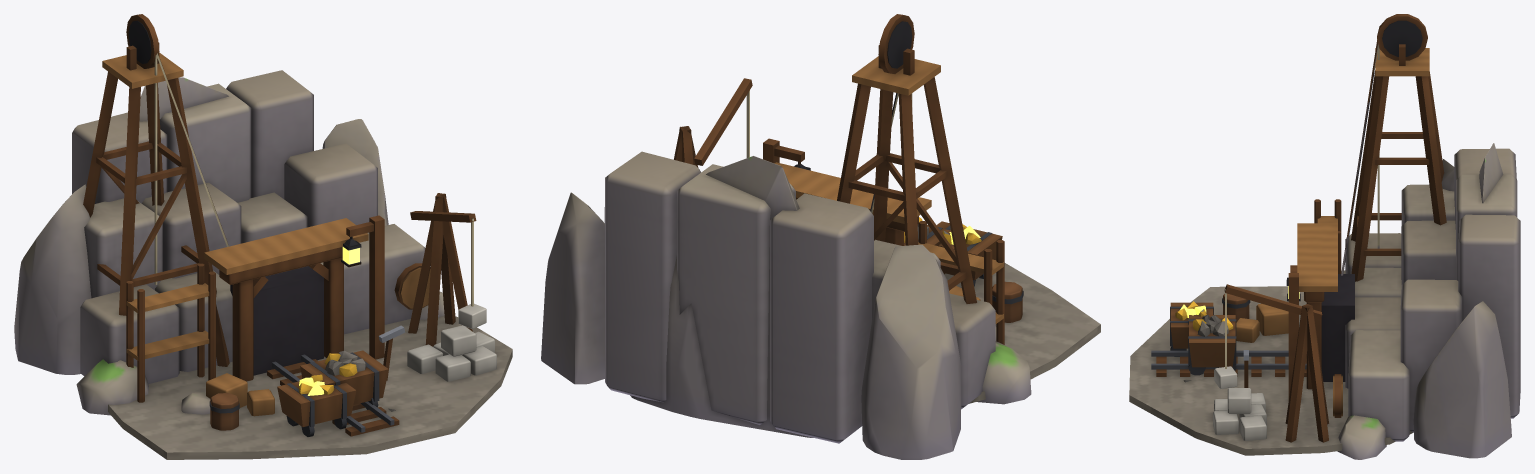
File: mine.glb
The picture shows the model from 3 angles, left to right: view 1: azimuth 30°, elevation 25°; view 2: azimuth 150°, elevation 25°; view 3: azimuth 270°, elevation 25°; orthographic projection. The views are drawn at different scales.
Visible parts, largest first — view 1: mine; view 2: mine; view 3: mine.
Part boxes in pixels (x1=…): mine: x1=14, y1=14, x2=512, y2=459; mine: x1=541, y1=14, x2=1100, y2=459; mine: x1=1129, y1=14, x2=1520, y2=459.
Bounding box in the file's own units: 1.16 × 1.05 × 1.15.
Materials: 3 (1 with a texture image).
